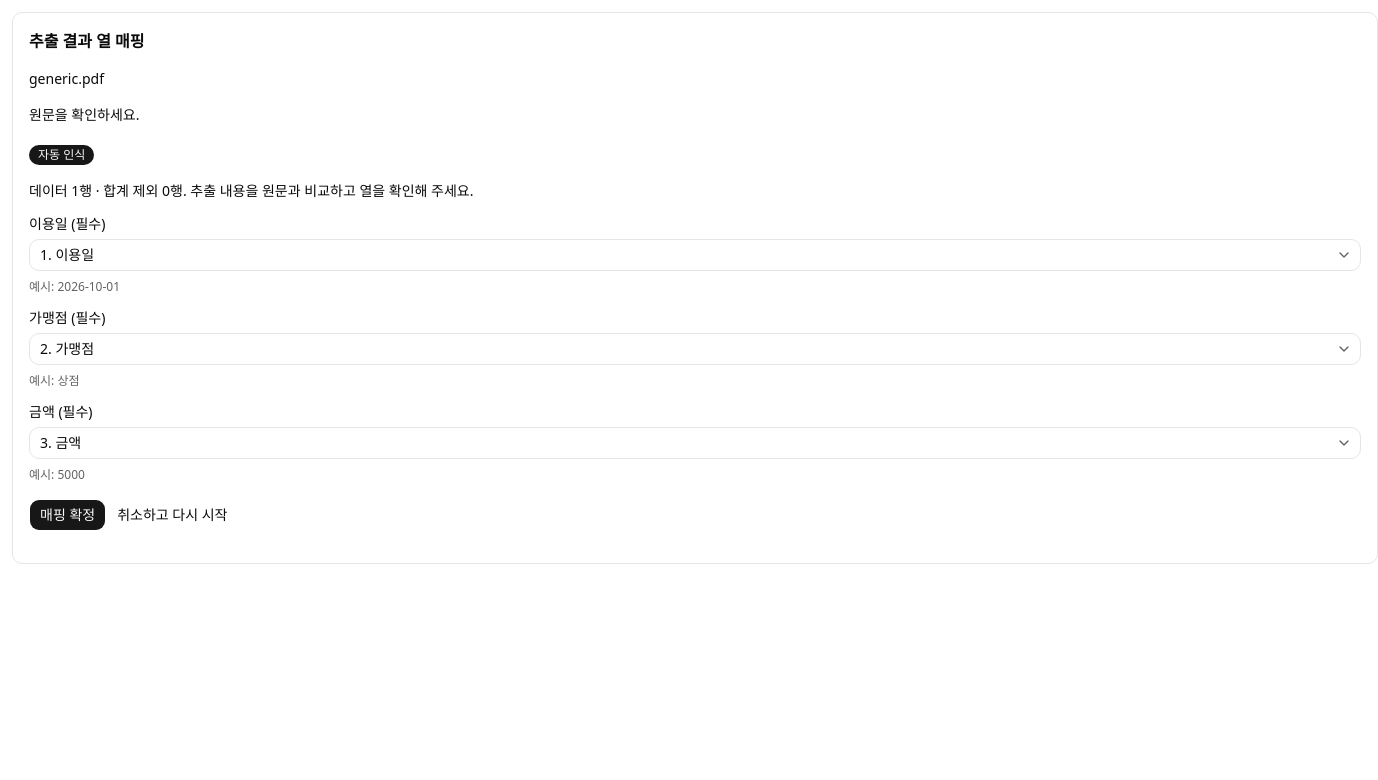
Test: 카드 명세서 가져오기 › 만료된 추출 작업은 파일을 다시 선택하도록 안내한다
This screenshot has width=1378, height=780.
Step 1. Click the button "매핑 확정" → [68, 515], box 29,499 -> 106,531
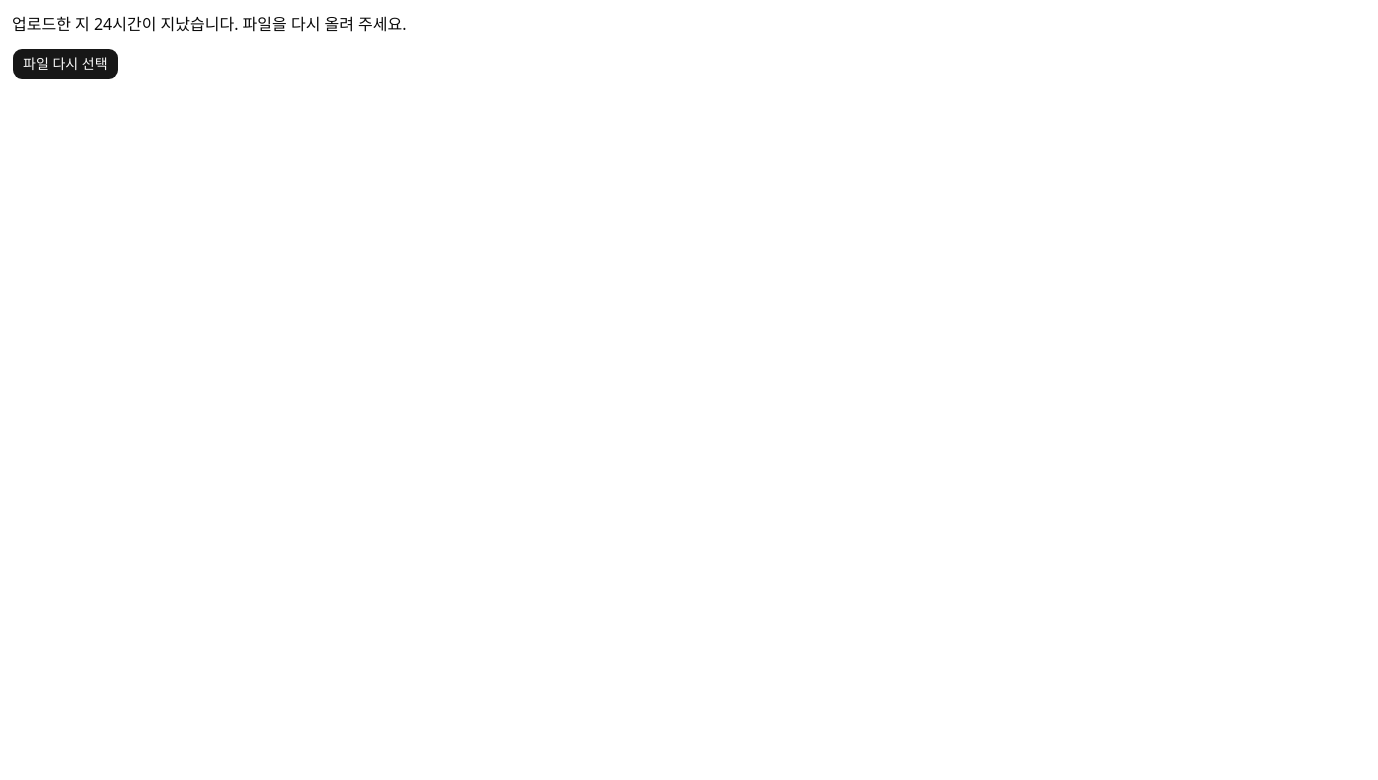
expect the button "파일 다시 선택" is shown: met, box 12,48 -> 119,80
